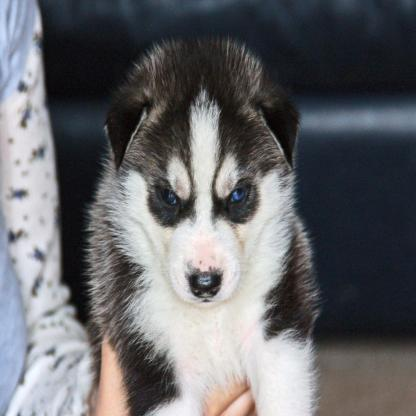husky: (86, 31, 316, 416)
